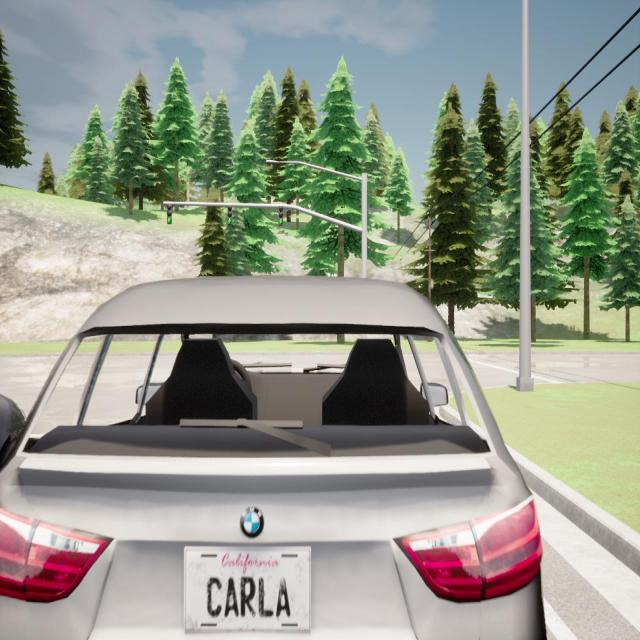Vehicle: (0, 275, 550, 640)
traffic_light: (278, 205, 284, 226), (167, 203, 172, 224), (227, 205, 232, 224)
